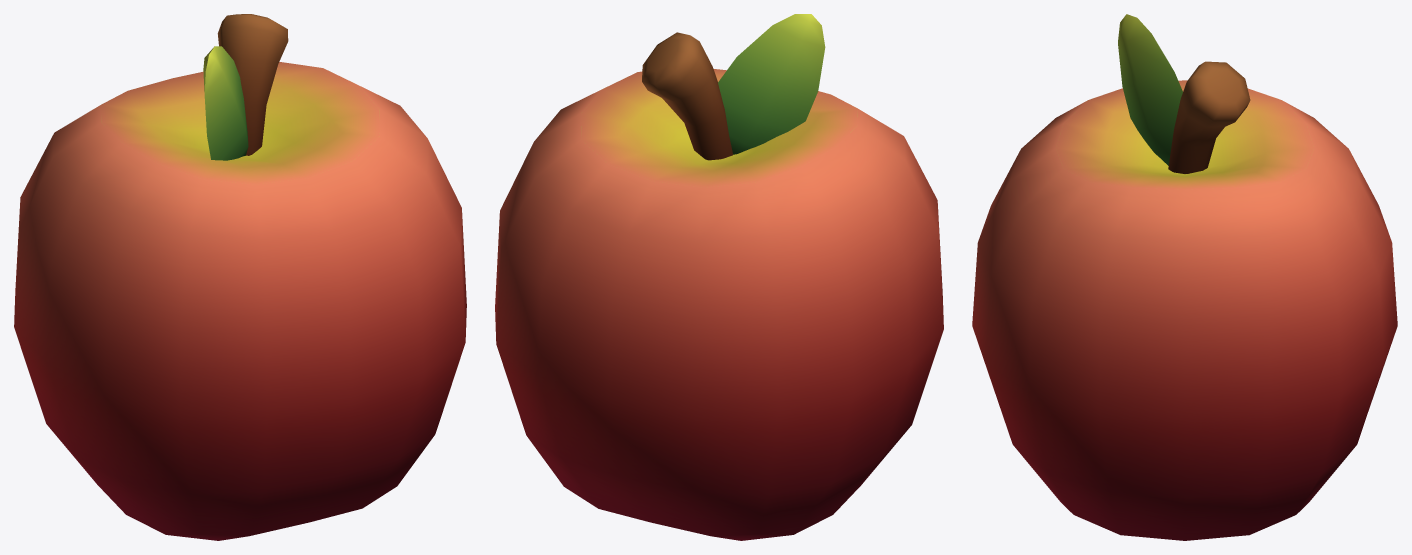
File: Apple_01.glb
The picture shows the model from 3 angles, left to right: view 1: azimuth 30°, elevation 25°; view 2: azimuth 150°, elevation 25°; view 3: azimuth 270°, elevation 25°; orthographic projection. The views are drawn at different scales.
Parts seen in each view (by area): view 1: Apple_01; view 2: Apple_01; view 3: Apple_01.
Boxes of the visible parts, <box> form: Apple_01: <box>14,14,466,540</box>; Apple_01: <box>495,14,943,540</box>; Apple_01: <box>972,14,1397,540</box>.
Bounding box in the file's own units: 0.2628 × 0.3188 × 0.2644.
1 material, 1 textured.
